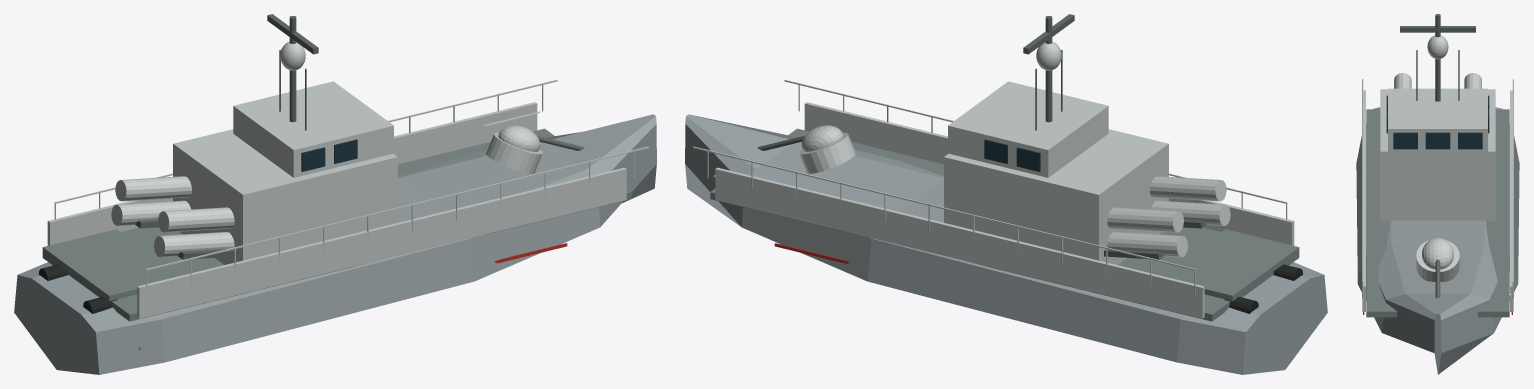
File: missileboat.glb
3 renders of one model, left to right at view 1: azimuth 30°, elevation 25°; view 2: azimuth 150°, elevation 25°; view 3: azimuth 270°, elevation 25°, orthographic. The views are drawn at different scales.
Parts seen in each view (by area): view 1: MissileBoat_Hull, BridgeLower, Bulwark_1, BridgeUpper, Bulwark_-1, SternFlagDeck, MainDeck, AShM_Canister_1_0.78, AShM_Canister_-1_0.78, AShM_Canister_1_-0.78, RailTop_1, GunMountBase (+6 smaller); view 2: MissileBoat_Hull, BridgeLower, Bulwark_-1, BridgeUpper, Bulwark_1, SternFlagDeck, MainDeck, AShM_Canister_-1_0.78, AShM_Canister_1_0.78, AShM_Canister_-1_-0.78, RailTop_-1, GunMountBase (+6 smaller); view 3: MissileBoat_Hull, BridgeLower, MainDeck, BridgeUpper, GunMountBase, GunCupola, Bulwark_1, Bulwark_-1, NavigationRadar, FrontWindow_0, FrontWindow_-2.3, FrontWindow_2.3 (+7 smaller).
Boxes of the visible parts, x1,y1,x2,y2 form: MissileBoat_Hull: (14,114,656,374); BridgeLower: (173,129,397,264); Bulwark_1: (137,167,626,318); BridgeUpper: (233,81,393,177); Bulwark_-1: (47,102,537,245); SternFlagDeck: (42,229,179,301); MainDeck: (42,128,631,321); AShM_Canister_1_0.78: (158,207,234,232); AShM_Canister_-1_0.78: (115,176,191,201); AShM_Canister_1_-0.78: (154,232,234,257); RailTop_1: (147,146,648,270); GunMountBase: (486,132,542,173); MissileBoat_Hull: (685,114,1327,374); BridgeLower: (944,129,1168,264); Bulwark_-1: (715,167,1204,318); BridgeUpper: (948,81,1108,177); Bulwark_1: (804,102,1294,245); SternFlagDeck: (1162,229,1299,301); MainDeck: (710,128,1299,321); AShM_Canister_-1_0.78: (1107,207,1183,232); AShM_Canister_1_0.78: (1150,176,1226,201); AShM_Canister_-1_-0.78: (1107,232,1187,257); RailTop_-1: (693,146,1194,270); GunMountBase: (799,132,855,173); MissileBoat_Hull: (1356,107,1519,374); BridgeLower: (1380,89,1495,220); MainDeck: (1366,109,1509,317); BridgeUpper: (1388,88,1487,159); GunMountBase: (1416,240,1459,281); GunCupola: (1422,237,1453,269); Bulwark_1: (1362,90,1365,311); Bulwark_-1: (1510,90,1513,311); NavigationRadar: (1400,26,1475,32); FrontWindow_0: (1425,132,1450,149); FrontWindow_-2.3: (1458,132,1482,149); FrontWindow_2.3: (1393,132,1417,149).
Bounding box in the file's own units: 40.5 × 19.1 × 11.6.
